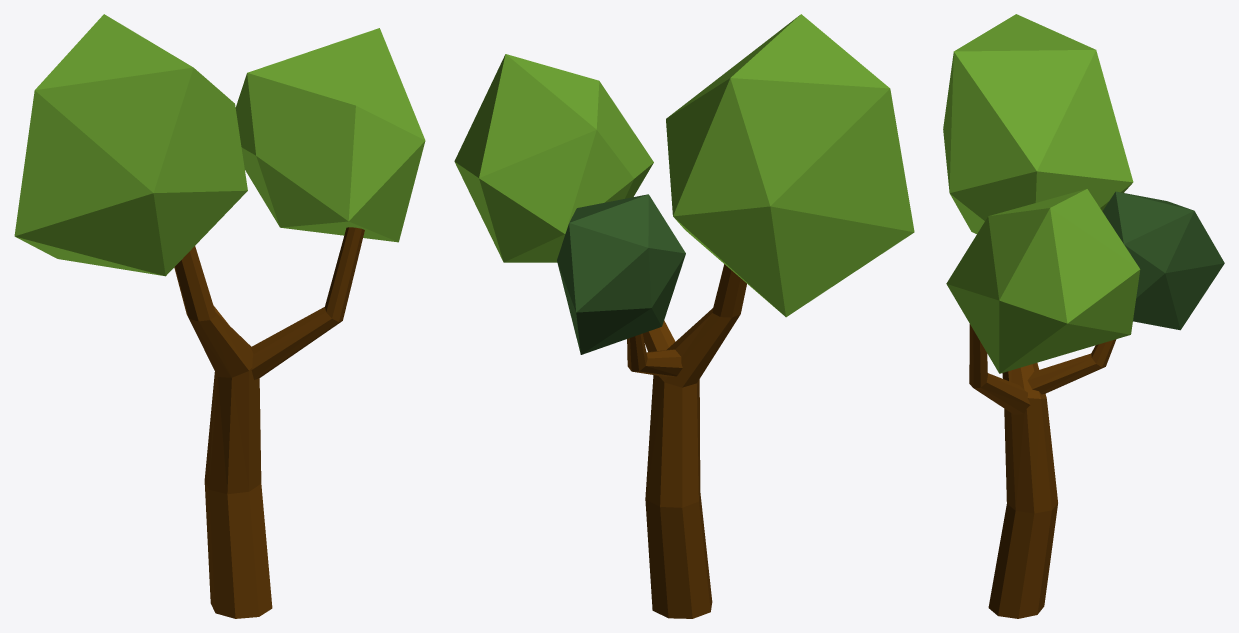
File: Tree13.fbx
3 renders of one model, left to right at view 1: azimuth 30°, elevation 25°; view 2: azimuth 150°, elevation 25°; view 3: azimuth 270°, elevation 25°, orthographic. The views are drawn at different scales.
Visible parts, largest first — view 1: Tree13; view 2: Tree13; view 3: Tree13.
Part boxes in pixels (x1,y1,x2,y2): Tree13: [14, 14, 425, 618]; Tree13: [454, 14, 914, 618]; Tree13: [943, 14, 1224, 618].
Size of the model in its own units: 249 by 325 by 160.
